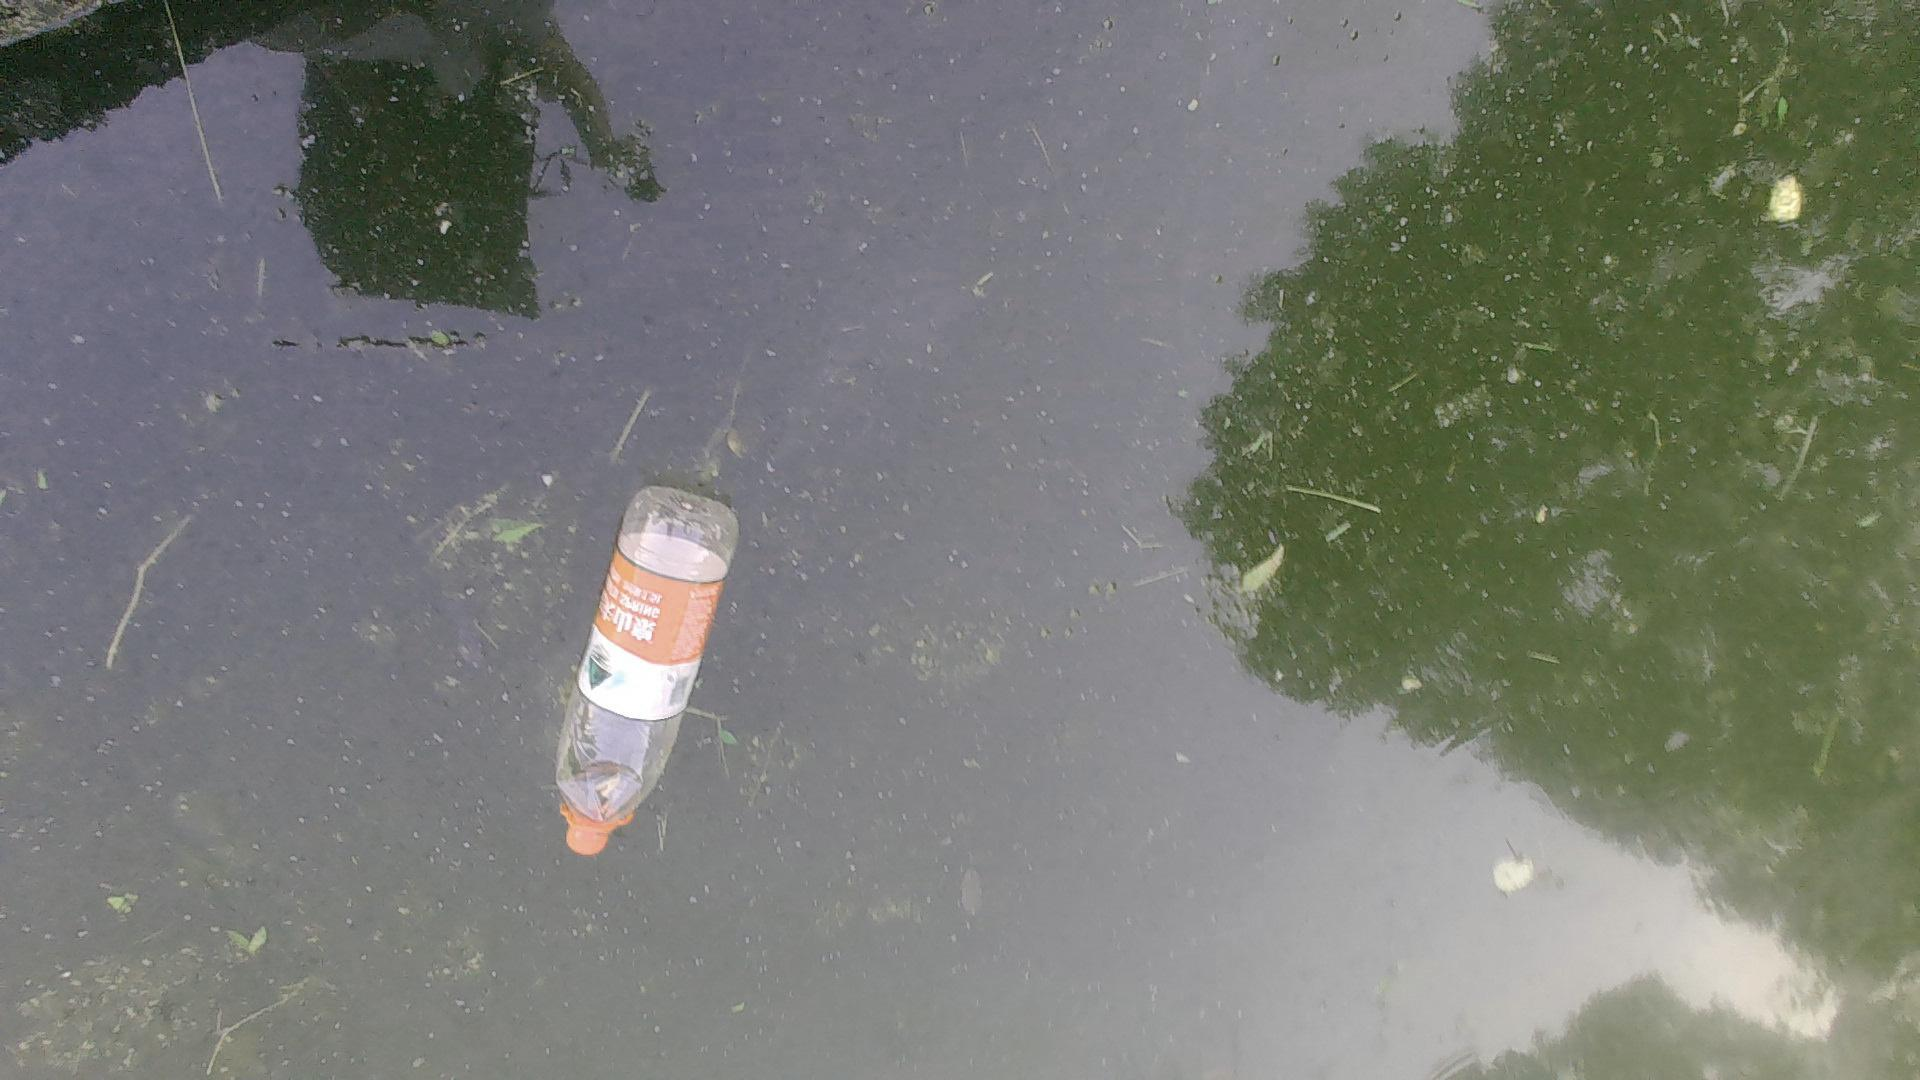Plastic: (542, 481, 748, 865)
